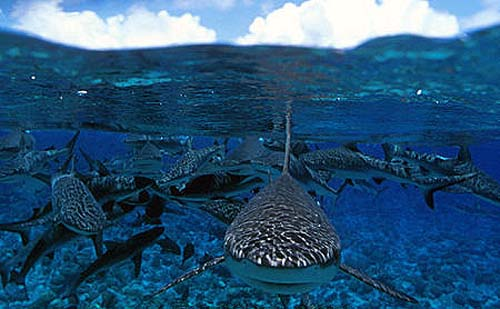Carcharhinus_amblyrhynchos: (17, 129, 483, 309)
